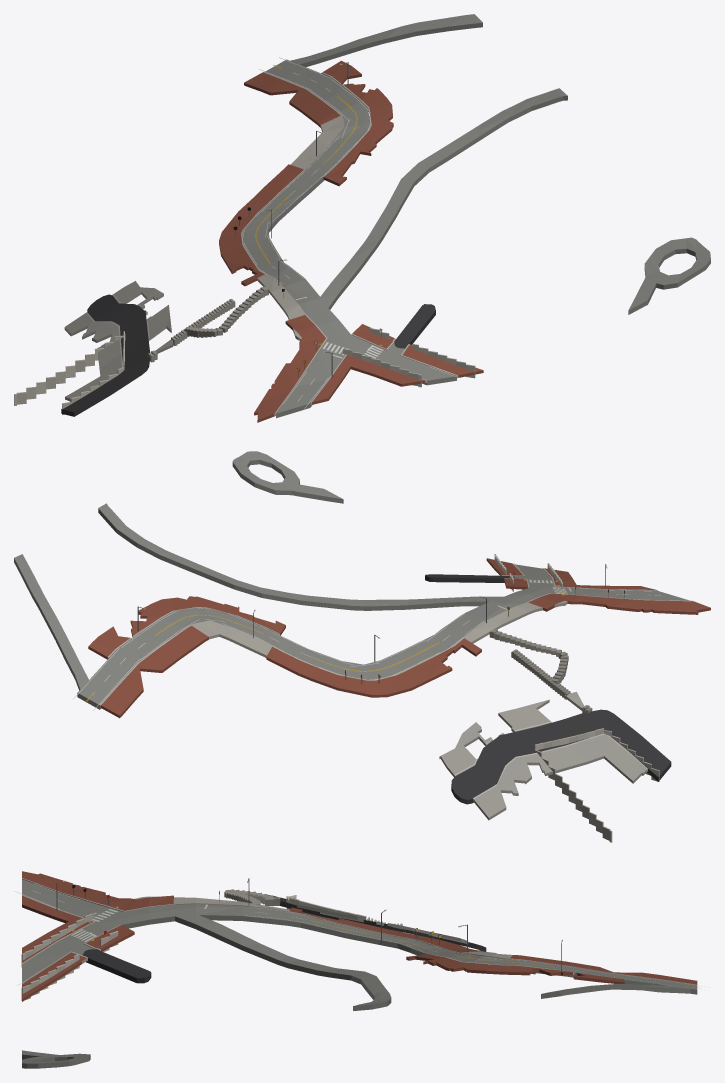
3 renders of one model, top to bottom at view 1: azimuth 30°, elevation 25°; view 2: azimuth 150°, elevation 25°; view 3: azimuth 270°, elevation 25°, orthographic. The views are drawn at different scales.
Bounding box in the file's own units: 147 × 55.32 × 150.
